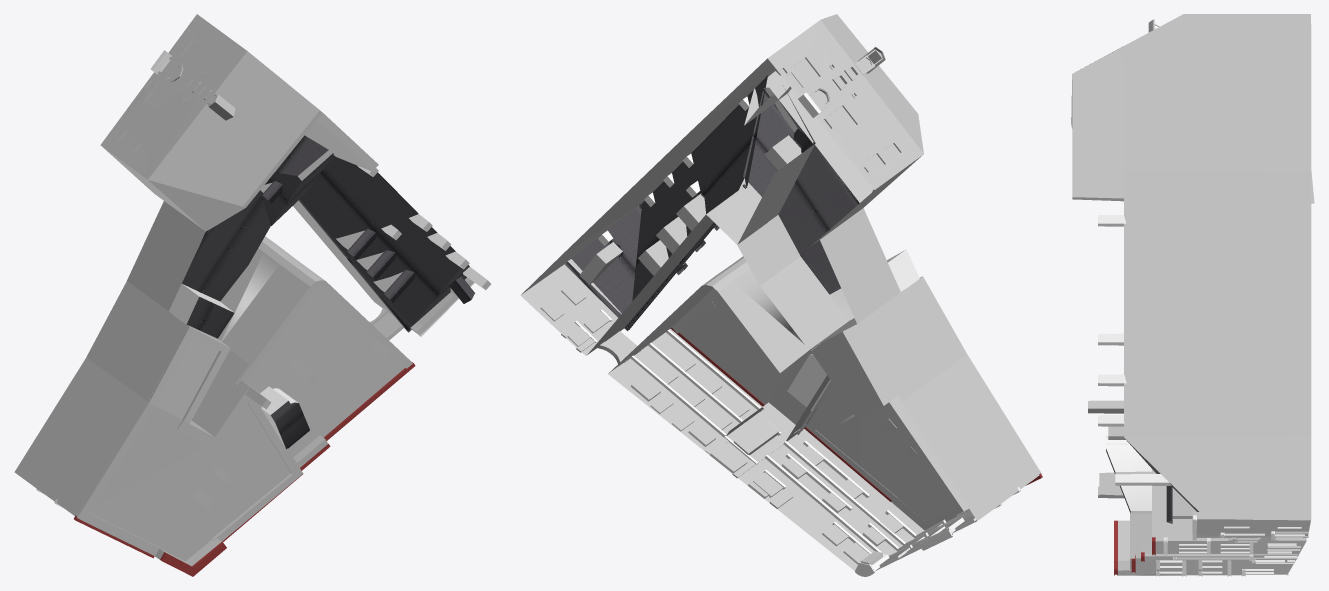
File: Myyrivahe_17.obj
The picture shows the model from 3 angles, left to right: view 1: azimuth 30°, elevation 25°; view 2: azimuth 150°, elevation 25°; view 3: azimuth 270°, elevation 25°; orthographic projection. The views are drawn at different scales.
Parts seen in each view (by area): view 1: Plane14; view 2: Plane14; view 3: Plane14.
Part boxes in pixels (x1=…): Plane14: x1=14, y1=14, x2=490, y2=576; Plane14: x1=520, y1=14, x2=1042, y2=576; Plane14: x1=1071, y1=14, x2=1314, y2=576.
Bounding box in the file's own units: 49.62 × 53.57 × 19.25.
